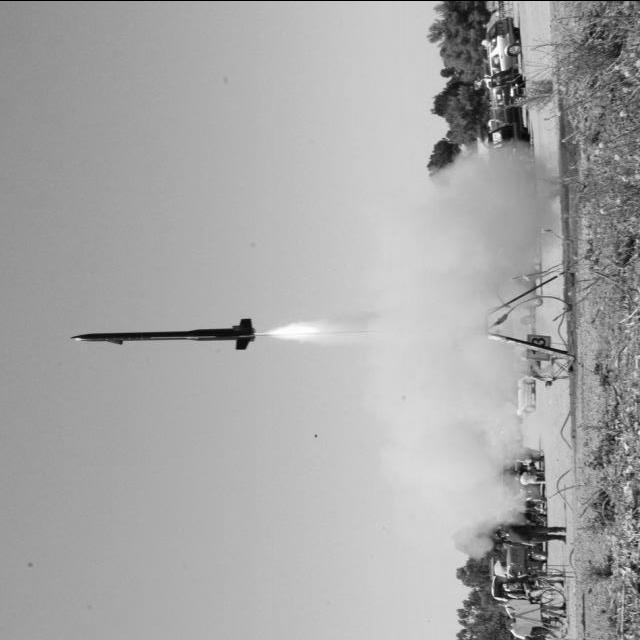missile: (68, 316, 258, 354)
